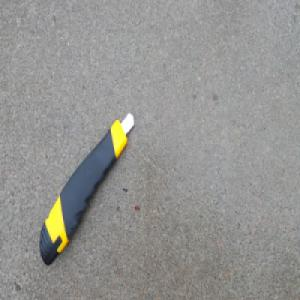Cutter: (38, 111, 135, 268)
